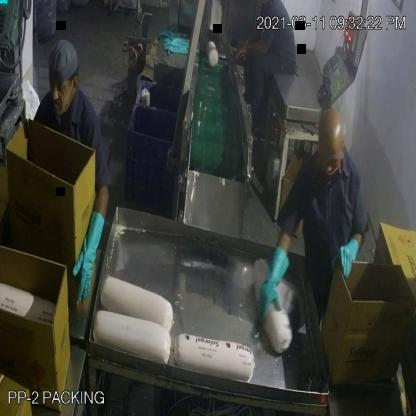glove: (66, 197, 106, 309), (251, 242, 291, 326), (330, 231, 360, 282)
